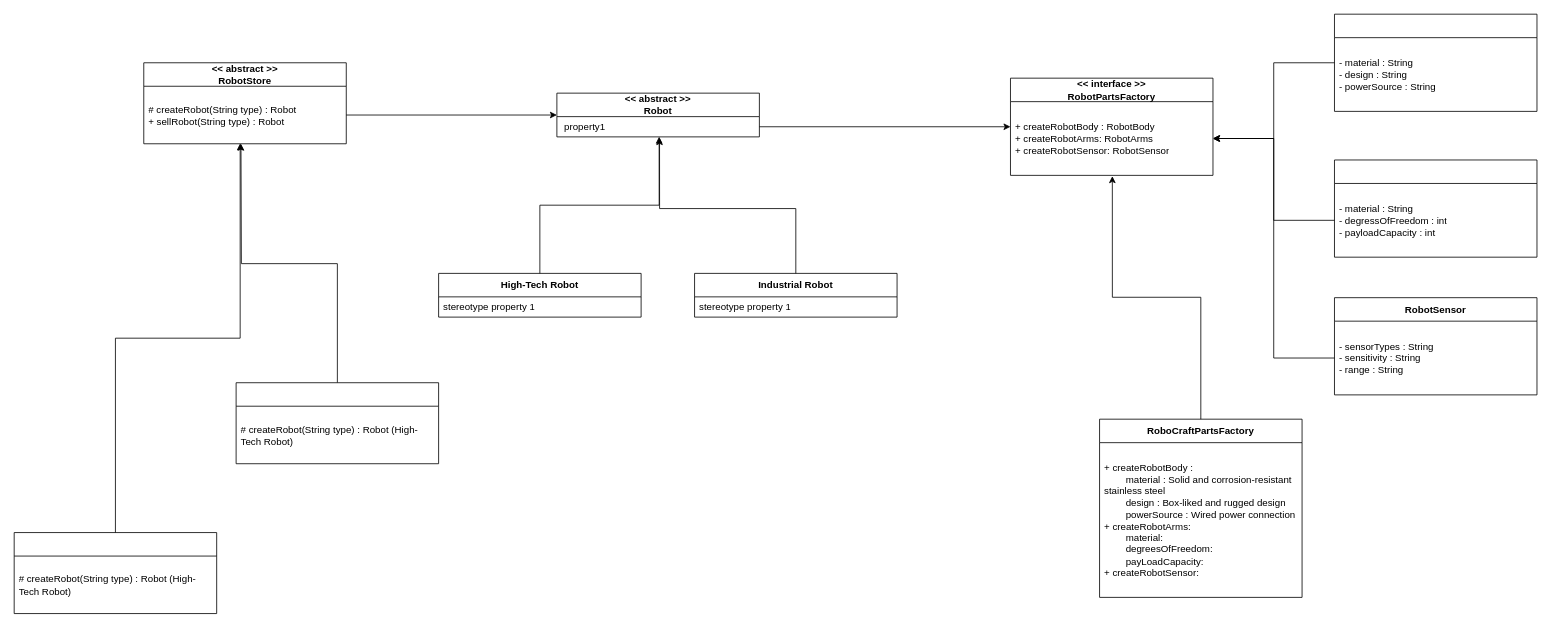
Some shapes in this 1551 by 628 pixel diagram are drawn without their labels. The box of each missing label's shape, as (x1, y1, x2, y2) in pixels:
QuantumInnovationsRobotStore: (13, 532, 217, 614)
RoboCraftStore: (235, 382, 439, 464)
RobotArms: (1334, 159, 1537, 257)
RobotBody: (1334, 13, 1537, 111)
